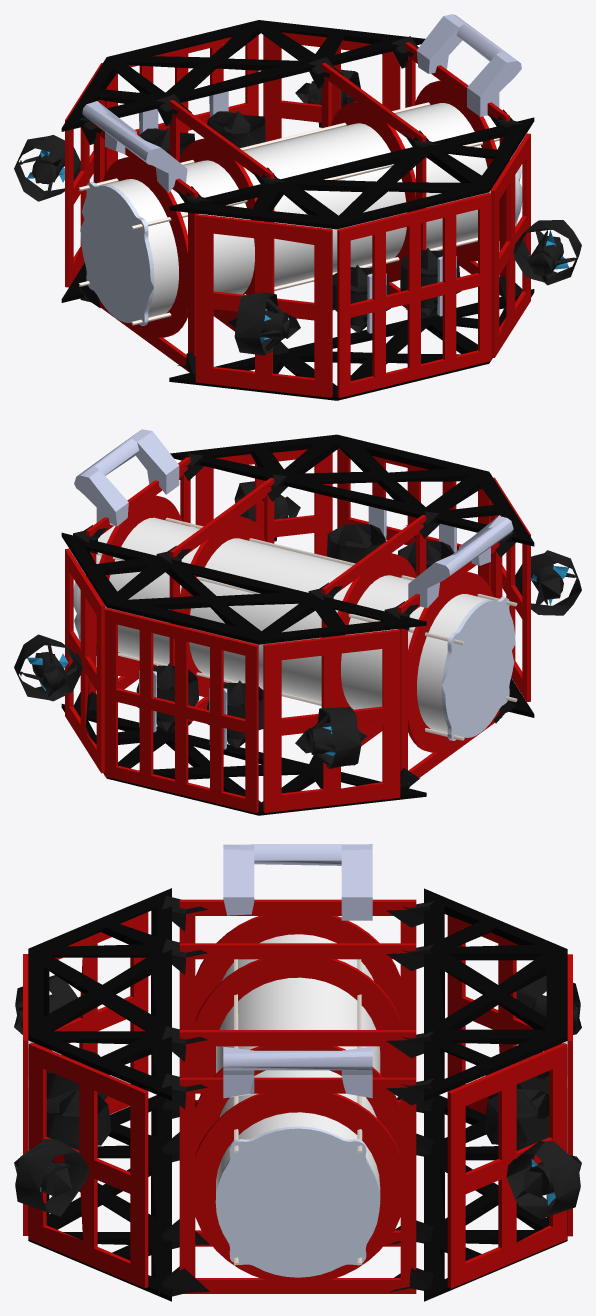
File: Seawolf8_lowpoly.fbx
3 renders of one model, top to bottom at view 1: azimuth 30°, elevation 25°; view 2: azimuth 150°, elevation 25°; view 3: azimuth 270°, elevation 25°, orthographic. The views are drawn at different scales.
Visible parts, largest first — view 1: Fillet1 (×3), Cut-Extrude1 (×4), Boss-Extrude1 (×4), Frame Mount Holes (×4), Vertical Holes Bottom (×2), PUBLICT100-P-NOZZLE-R1-1-solid1 (×7), Cut-Extrude2, Boss-Extrude2 (×2), PUBLICT200-P-STATOR-BASE-R1-1-solid1 (×2); view 2: Fillet1 (×3), Cut-Extrude1 (×4), Boss-Extrude1 (×4), Frame Mount Holes (×4), Vertical Holes Bottom (×2), PUBLICT100-P-NOZZLE-R1-1-solid1 (×8), Cut-Extrude2, Boss-Extrude2 (×2), PUBLICT200-P-STATOR-BASE-R1-1-solid1 (×2); view 3: Fillet1 (×9), Frame Mount Holes (×4), Cut-Extrude1 (×4), Cut-Extrude2, PUBLICT100-P-NOZZLE-R1-1-solid1 (×7), Boss-Extrude2 (×2), Boss-Extrude1, Vertical Holes Bottom (×2).
Boxes of the visible parts, bbox=[...] form: Fillet1 (×3): bbox=[61, 20, 534, 400]; Cut-Extrude1 (×4): bbox=[65, 32, 530, 397]; Boss-Extrude1 (×4): bbox=[79, 102, 519, 325]; Frame Mount Holes (×4): bbox=[93, 42, 509, 372]; Vertical Holes Bottom (×2): bbox=[105, 35, 491, 397]; PUBLICT100-P-NOZZLE-R1-1-solid1 (×7): bbox=[14, 111, 581, 355]; Cut-Extrude2: bbox=[80, 182, 154, 325]; Boss-Extrude2 (×2): bbox=[82, 14, 521, 192]; PUBLICT200-P-STATOR-BASE-R1-1-solid1 (×2): bbox=[260, 229, 576, 351]; Fillet1 (×3): bbox=[61, 434, 534, 815]; Cut-Extrude1 (×4): bbox=[65, 449, 530, 812]; Boss-Extrude1 (×4): bbox=[76, 517, 517, 740]; Frame Mount Holes (×4): bbox=[86, 457, 502, 777]; Vertical Holes Bottom (×2): bbox=[104, 448, 490, 813]; PUBLICT100-P-NOZZLE-R1-1-solid1 (×8): bbox=[14, 481, 581, 768]; Cut-Extrude2: bbox=[441, 596, 515, 740]; Boss-Extrude2 (×2): bbox=[74, 429, 513, 608]; PUBLICT200-P-STATOR-BASE-R1-1-solid1 (×2): bbox=[19, 644, 335, 767]; Fillet1 (×9): bbox=[28, 888, 567, 1301]; Frame Mount Holes (×4): bbox=[179, 899, 416, 1293]; Cut-Extrude1 (×4): bbox=[28, 912, 567, 1288]; Cut-Extrude2: bbox=[215, 1126, 380, 1277]; PUBLICT100-P-NOZZLE-R1-1-solid1 (×7): bbox=[15, 975, 580, 1219]; Boss-Extrude2 (×2): bbox=[223, 844, 372, 1098]; Boss-Extrude1: bbox=[216, 934, 380, 1199]; Vertical Holes Bottom (×2): bbox=[23, 954, 572, 1236].
Size of the model in its own units: 65.4 by 34.96 by 70.18.
